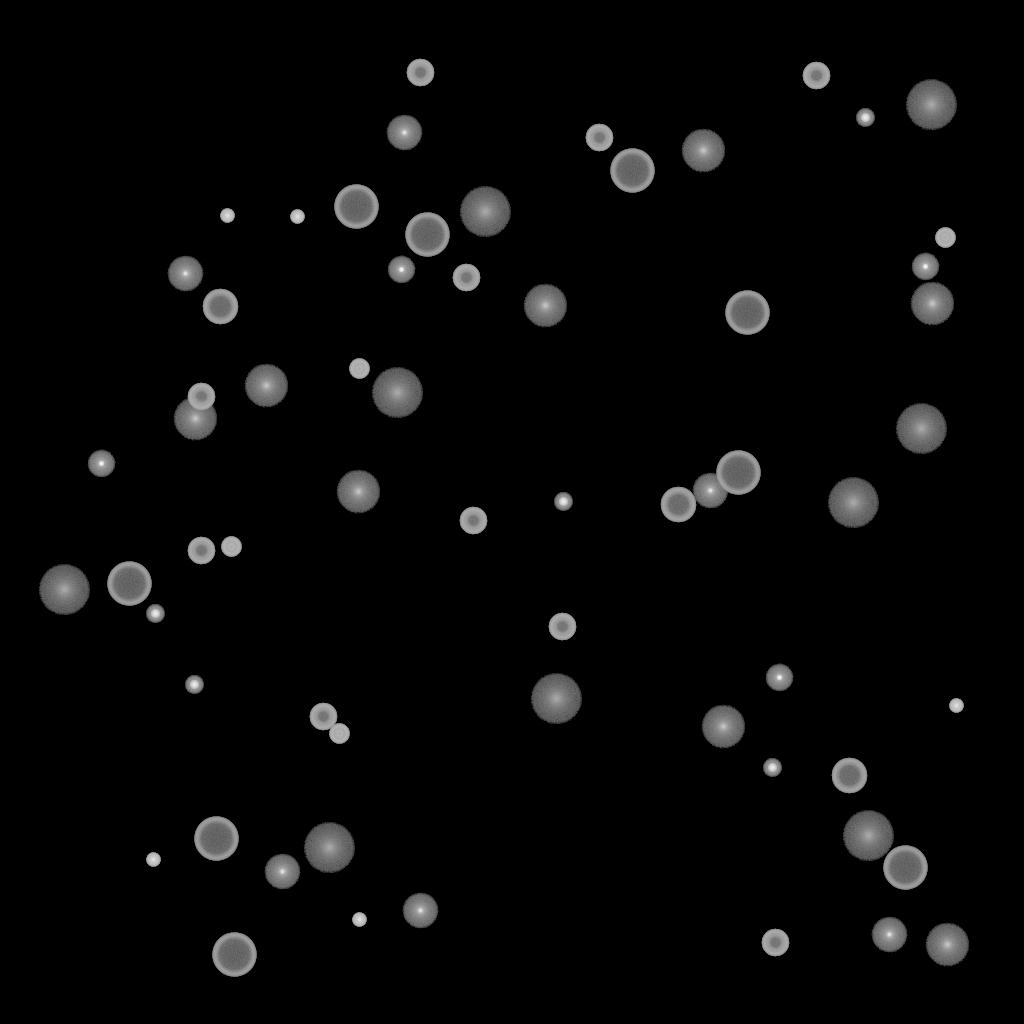depth:-10: (911, 253, 939, 281), (387, 256, 415, 284), (765, 664, 793, 692), (87, 450, 115, 478)
depth:-20: (146, 605, 164, 623), (185, 676, 203, 694), (856, 109, 874, 127), (554, 493, 572, 511), (763, 759, 781, 777)
depth:-30: (146, 853, 160, 867), (220, 209, 234, 223), (352, 913, 366, 927), (290, 210, 304, 224), (949, 699, 963, 713)
depth:-40: (935, 228, 955, 248), (329, 724, 349, 744), (221, 537, 241, 557), (349, 359, 369, 379)
depth:-50: (761, 929, 789, 957), (459, 507, 487, 535), (585, 124, 613, 152), (452, 264, 480, 292), (548, 613, 576, 641), (187, 537, 215, 565), (187, 383, 215, 411), (802, 62, 830, 90), (406, 59, 434, 87), (309, 703, 337, 731)
depth:-60: (660, 487, 696, 523), (831, 758, 867, 794), (202, 289, 238, 325)
depth:-70: (716, 451, 760, 495), (610, 149, 654, 193), (212, 933, 256, 977), (107, 562, 151, 606), (194, 817, 238, 861), (725, 291, 769, 335), (334, 185, 378, 229), (405, 213, 449, 257), (883, 846, 927, 890)
depth:0: (167, 256, 203, 292), (264, 854, 300, 890), (871, 917, 907, 953), (692, 473, 728, 509), (386, 115, 422, 151), (402, 893, 438, 929)
depth:10: (910, 282, 954, 326), (701, 705, 745, 749), (925, 923, 969, 967), (244, 364, 288, 408), (523, 284, 567, 328), (336, 470, 380, 514), (173, 397, 217, 441), (681, 129, 725, 173)
depth:20: (827, 478, 879, 528), (303, 823, 355, 873), (895, 404, 947, 454), (38, 565, 90, 615), (905, 80, 957, 130), (842, 811, 894, 861), (371, 368, 423, 418), (459, 187, 511, 237), (530, 674, 582, 724)
